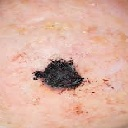Melanoma: (33, 57, 85, 90)
